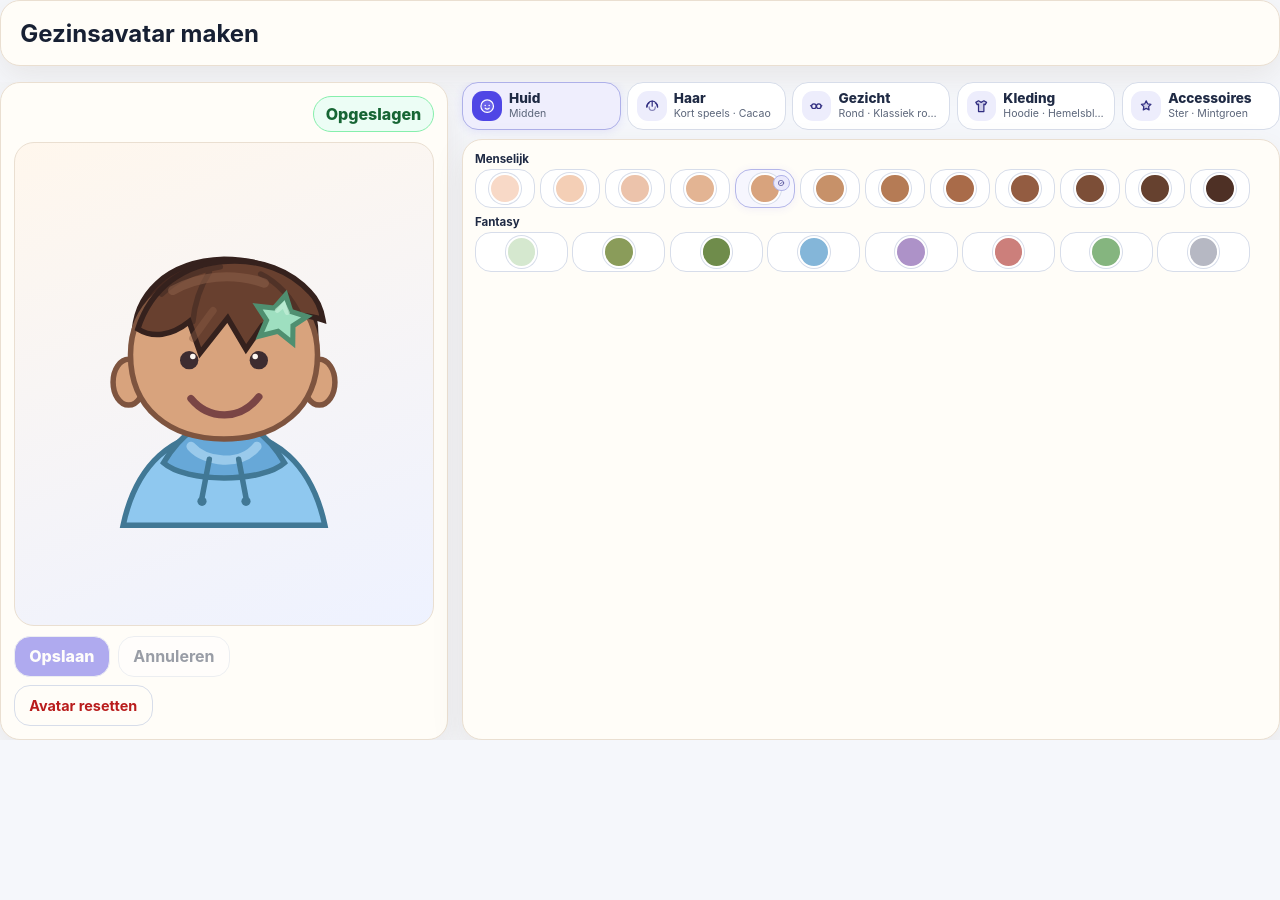
Scenario: AvatarEditorPage › saves and cancels changes against the last saved configuration
The image size is (1280, 900).
Click the button "Accessoires Ster · Mintgroen" at (1201, 106), box x1=1122 y1=82 x2=1279 y2=130
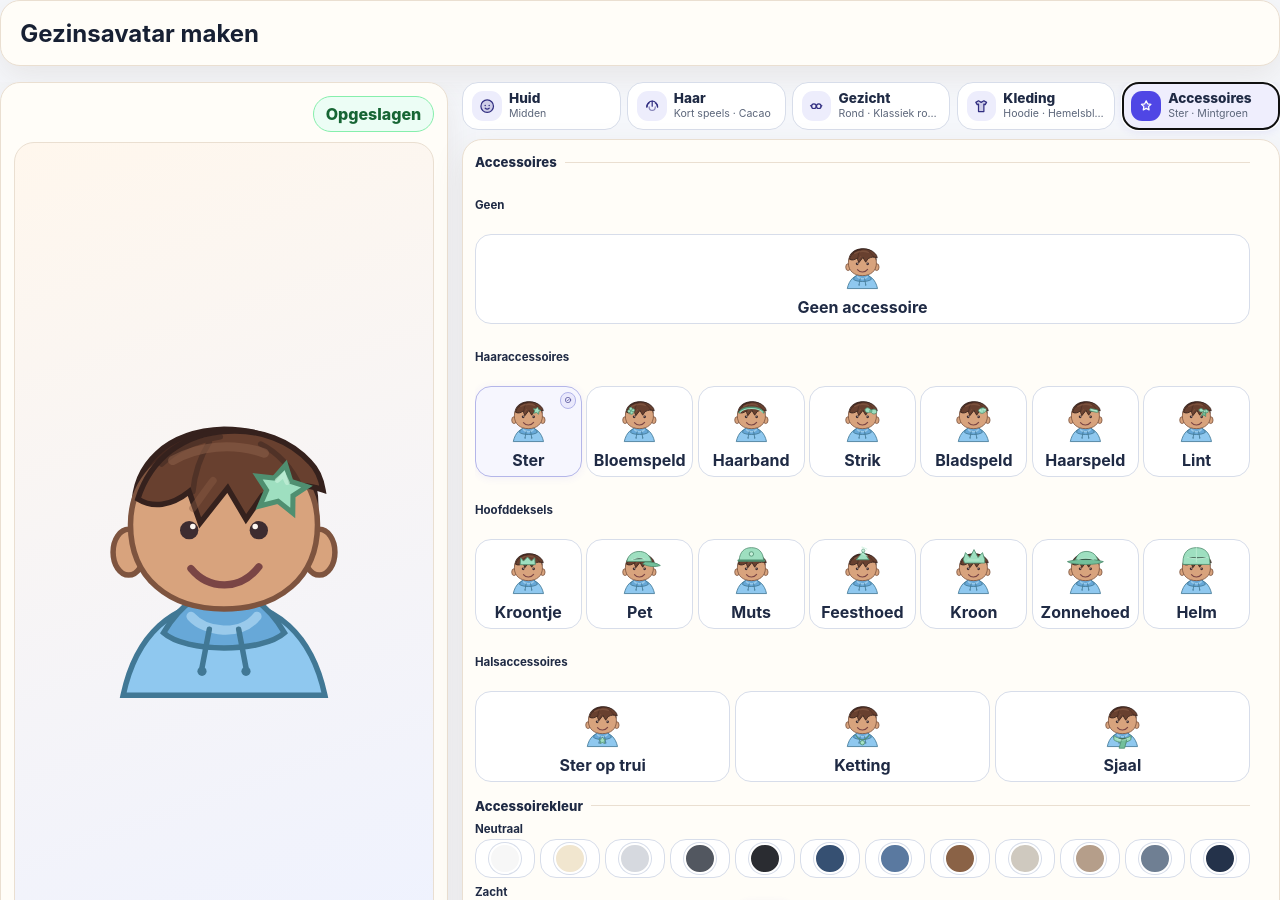
Click the button with aria-label "Bloemspeld accessoire" at (640, 431), box x1=586 y1=386 x2=693 y2=476
(page scrolled)
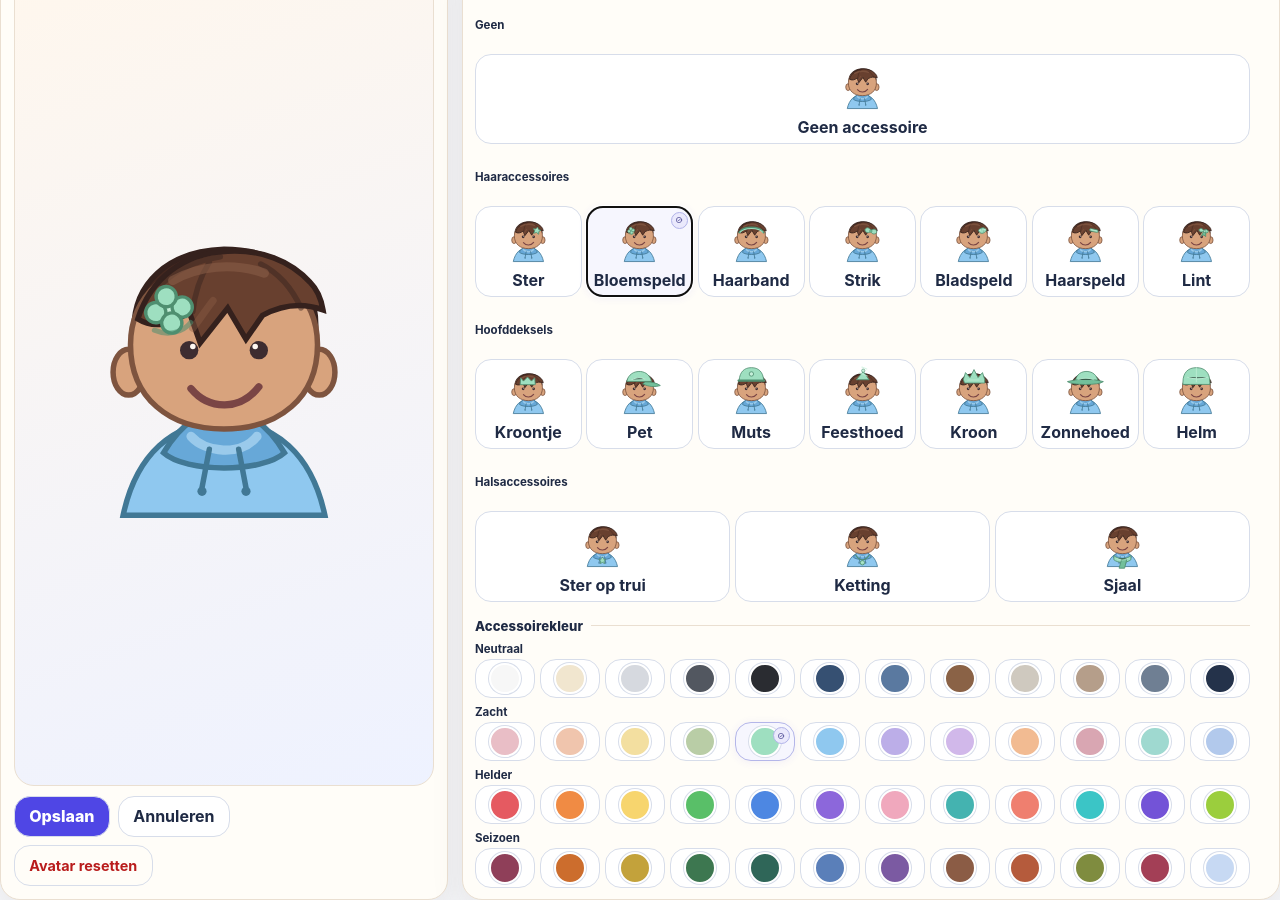
Click the button "Opslaan" at (62, 816), box x1=14 y1=796 x2=110 y2=837
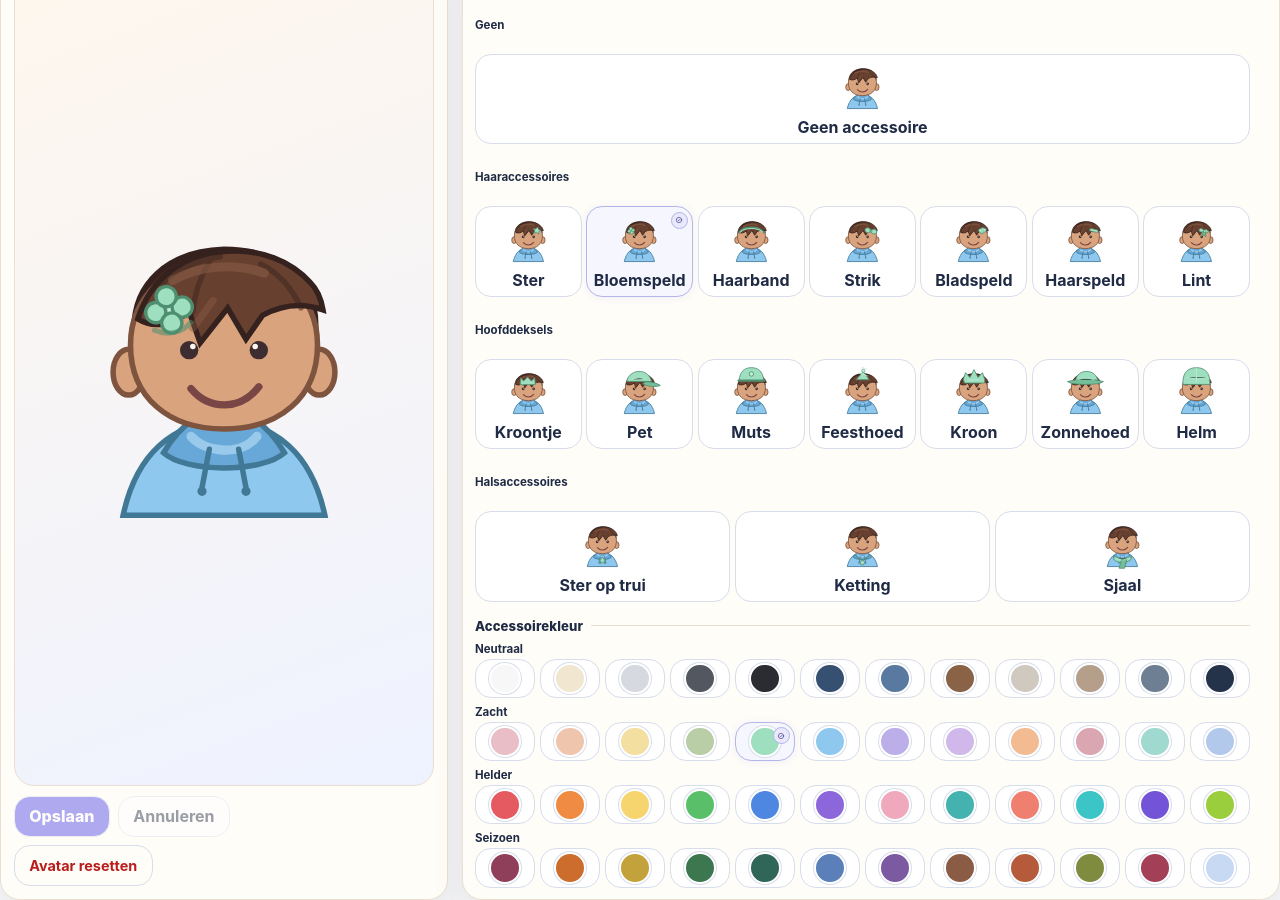
Click the button with aria-label "Strik accessoire" at (862, 251), box x1=809 y1=206 x2=916 y2=296
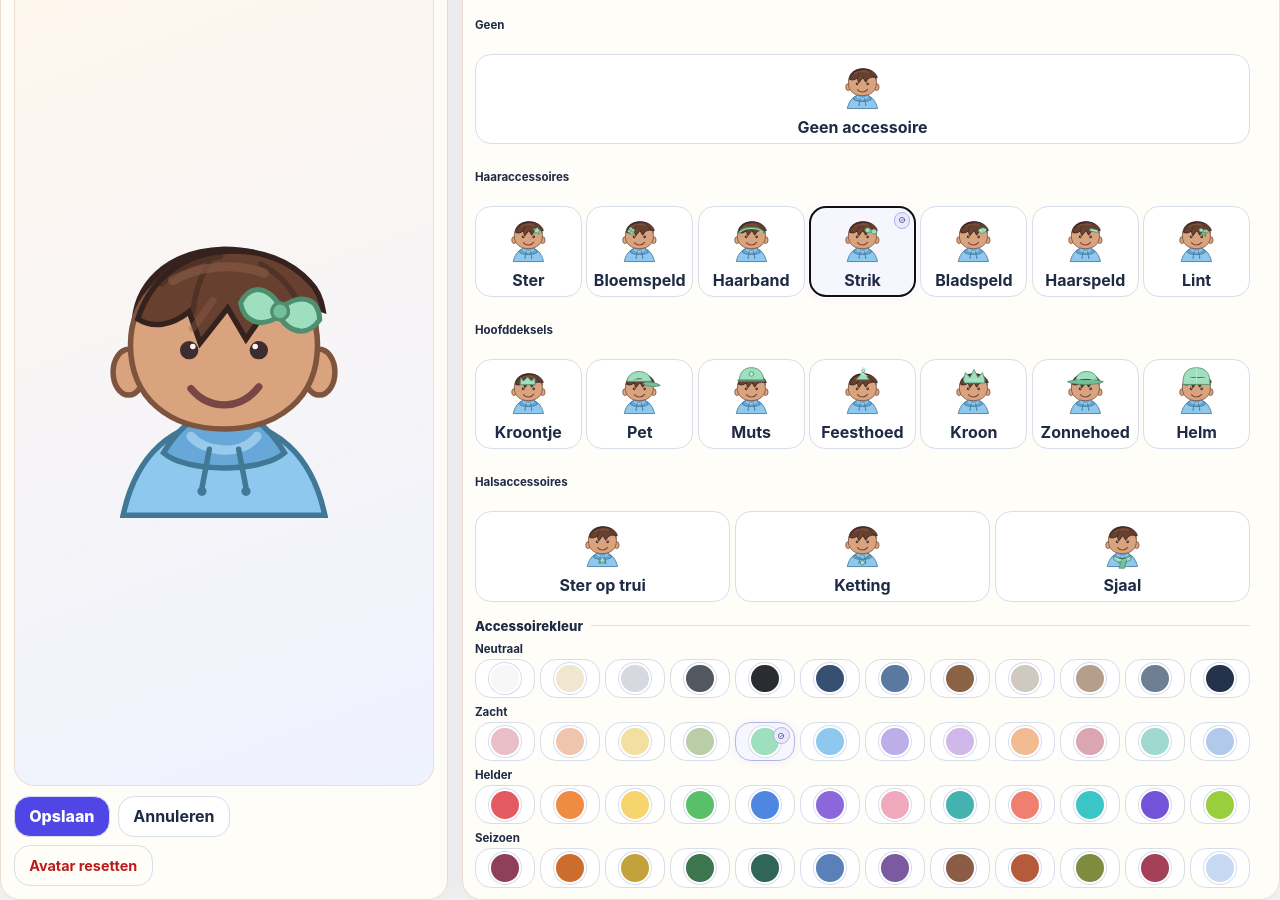
Click the button "Annuleren" at (174, 816), box x1=118 y1=796 x2=230 y2=837
(page scrolled)
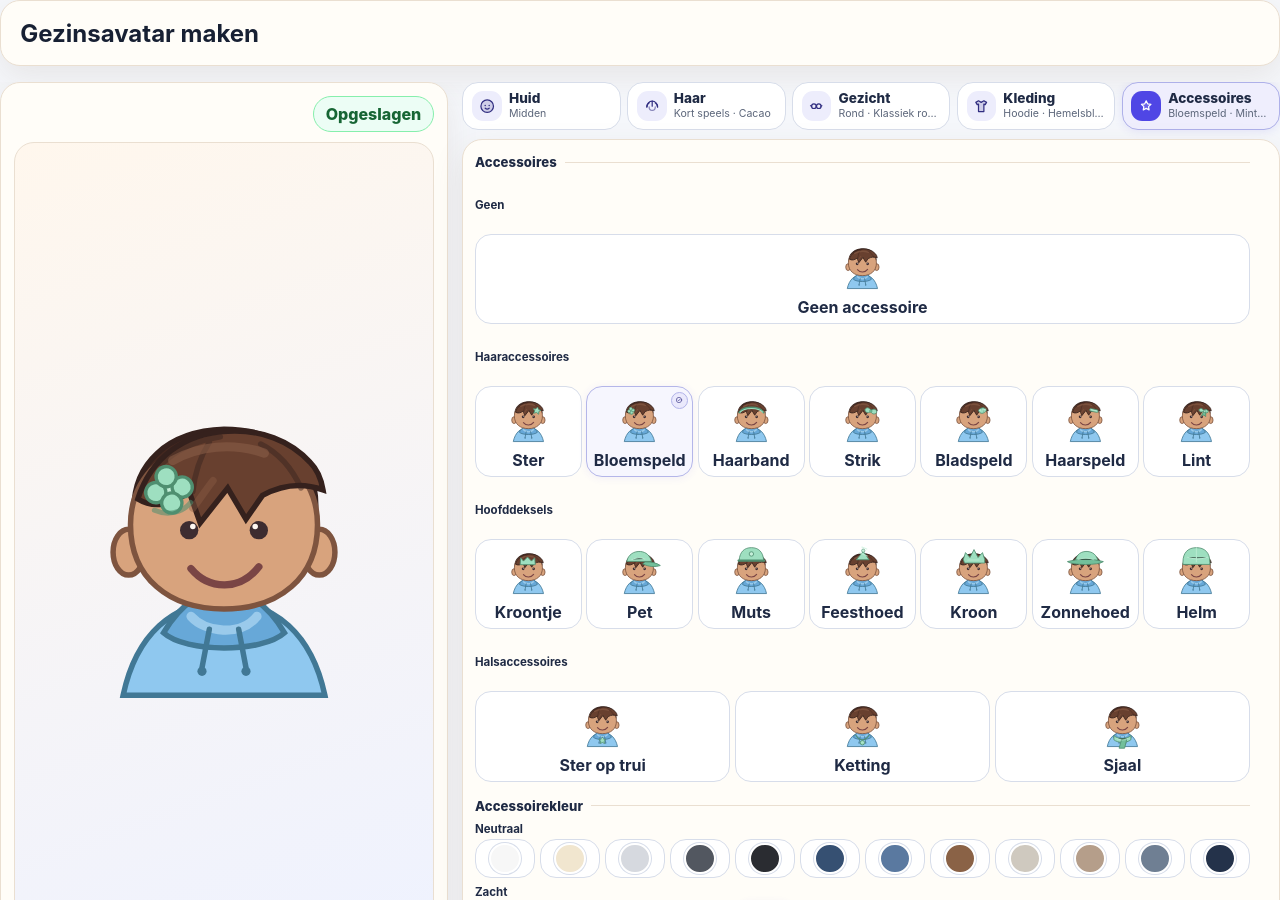
Now the text "Opgeslagen" is shown, box x1=313 y1=96 x2=434 y2=132
